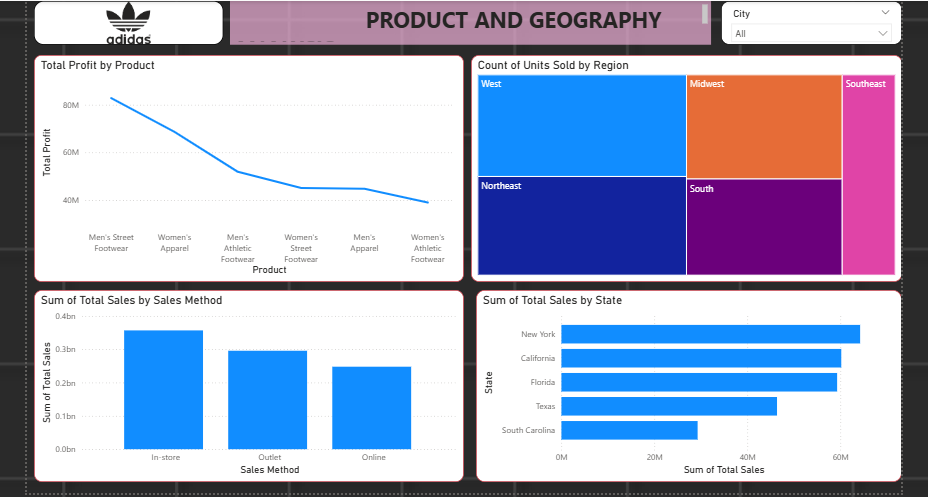

The page's visual inventory and layout, read from the dashboard file:
{"tool":"powerbi","page":{"name":" PRODUCT AND GEOGRAPHY","canvas":[1280,720],"ordinal":1},"visuals":[{"type":"columnChart","fields":{"Category":["Data Sales Adidas.Sales Method"],"Y":["Sum(Data Sales Adidas.Total Sales)"]},"box":[10.2,422.9,629.3,281],"z":0},{"type":"lineChart","fields":{"Y":["Data Sales Adidas.Total Profit"],"Category":["Data Sales Adidas.Product"]},"box":[10.2,79,629.3,332.2],"z":1},{"type":"treemap","fields":{"Group":["Data Sales Adidas.Region"],"Values":["CountNonNull(Data Sales Adidas.Units Sold)"]},"box":[649.8,79,630.7,332.2],"z":2},{"type":"barChart","fields":{"Category":["Data Sales Adidas.State"],"Y":["Sum(Data Sales Adidas.Total Sales)"]},"box":[657.1,422.9,623.4,281],"z":3},{"type":"textbox","box":[297.1,0,703.9,64.4],"z":4},{"type":"slicer","fields":{"Values":["Data Sales Adidas.City"]},"box":[1015.6,0,264.9,64.4],"z":5},{"type":"image","box":[10.2,0,276.6,64.4],"z":6}]}

Visuals, with their boxes in screenshot pixels (x1, y1, x2, y2):
columnChart - Data Sales Adidas.Sales Method x Sum(Data Sales Adidas.Total Sales): x1=34 y1=288 x2=463 y2=480
lineChart - Data Sales Adidas.Total Profit x Data Sales Adidas.Product: x1=34 y1=54 x2=463 y2=280
treemap - Data Sales Adidas.Region x CountNonNull(Data Sales Adidas.Units Sold): x1=470 y1=54 x2=900 y2=280
barChart - Data Sales Adidas.State x Sum(Data Sales Adidas.Total Sales): x1=475 y1=288 x2=900 y2=480
textbox: x1=229 y1=0 x2=709 y2=44
slicer - Data Sales Adidas.City: x1=719 y1=0 x2=900 y2=44
image: x1=34 y1=0 x2=222 y2=44
